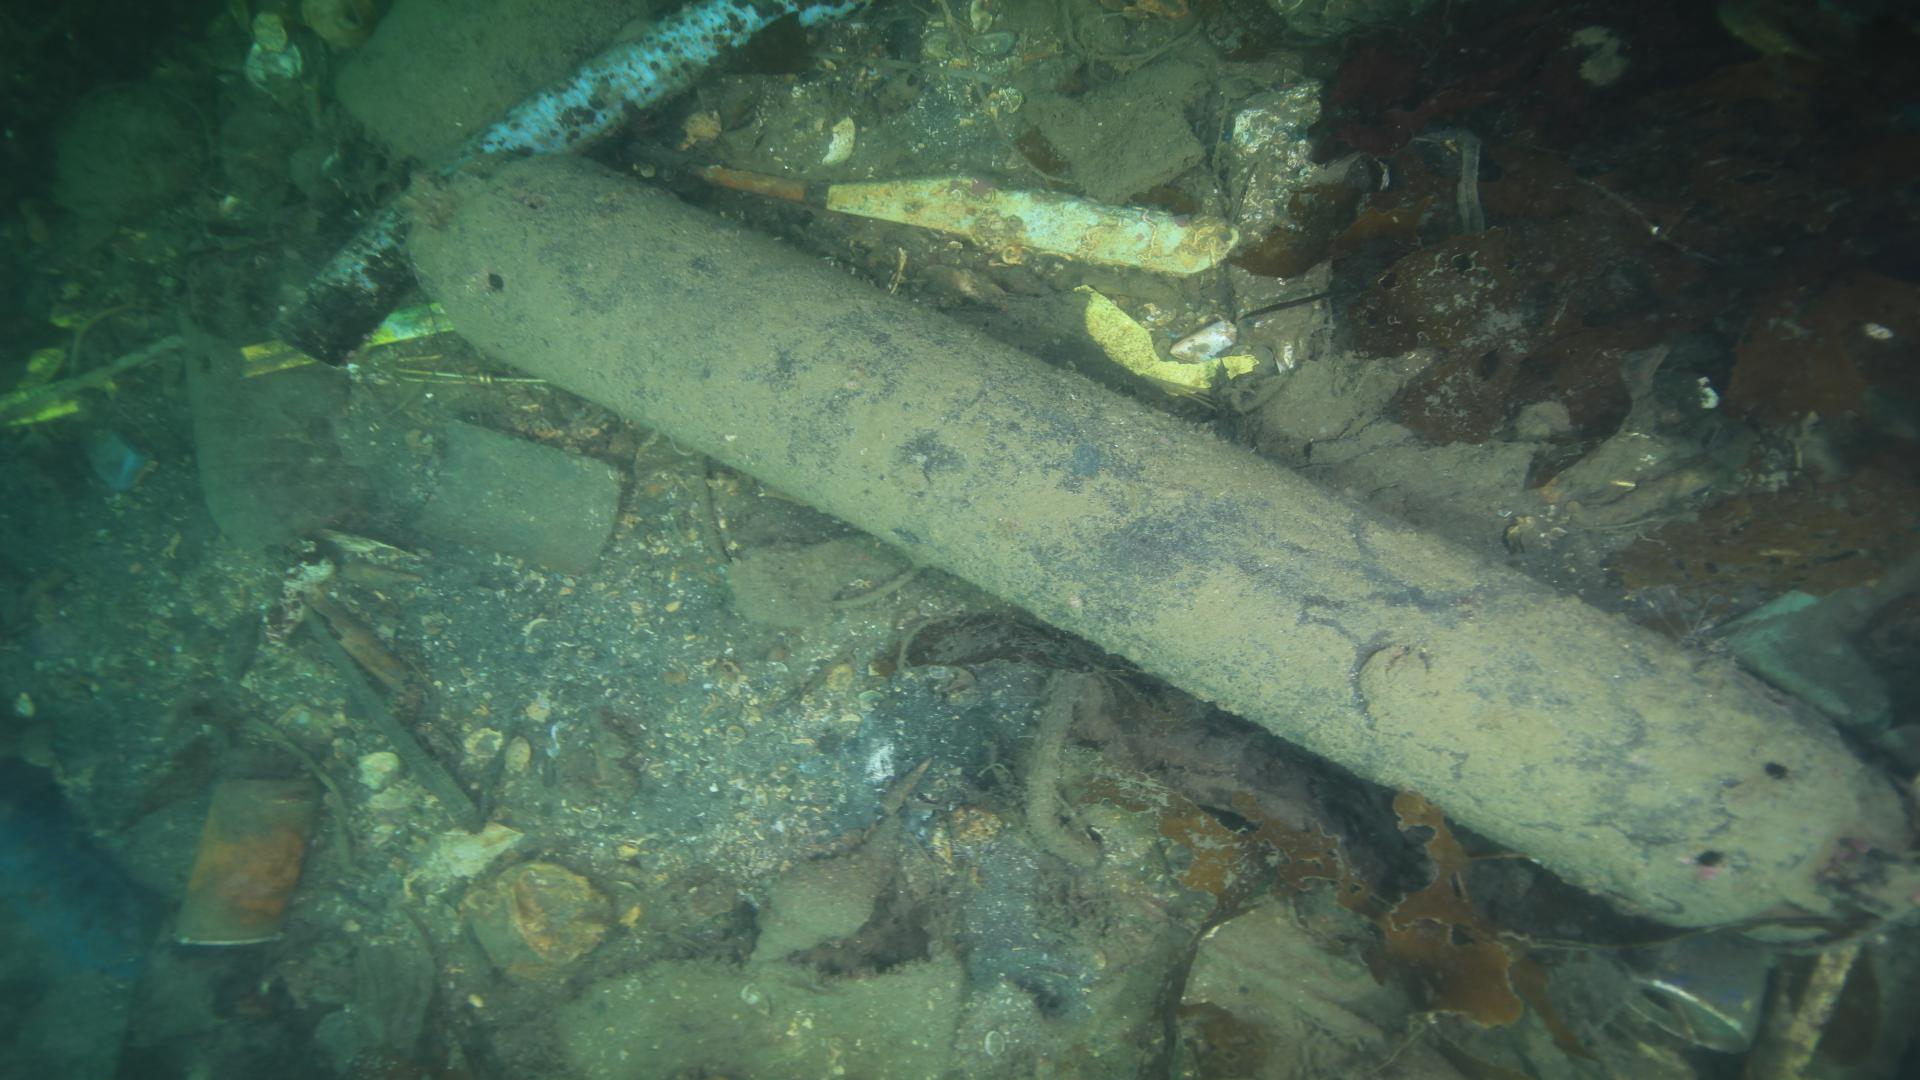eel fish trap: (406, 148, 1920, 947)
